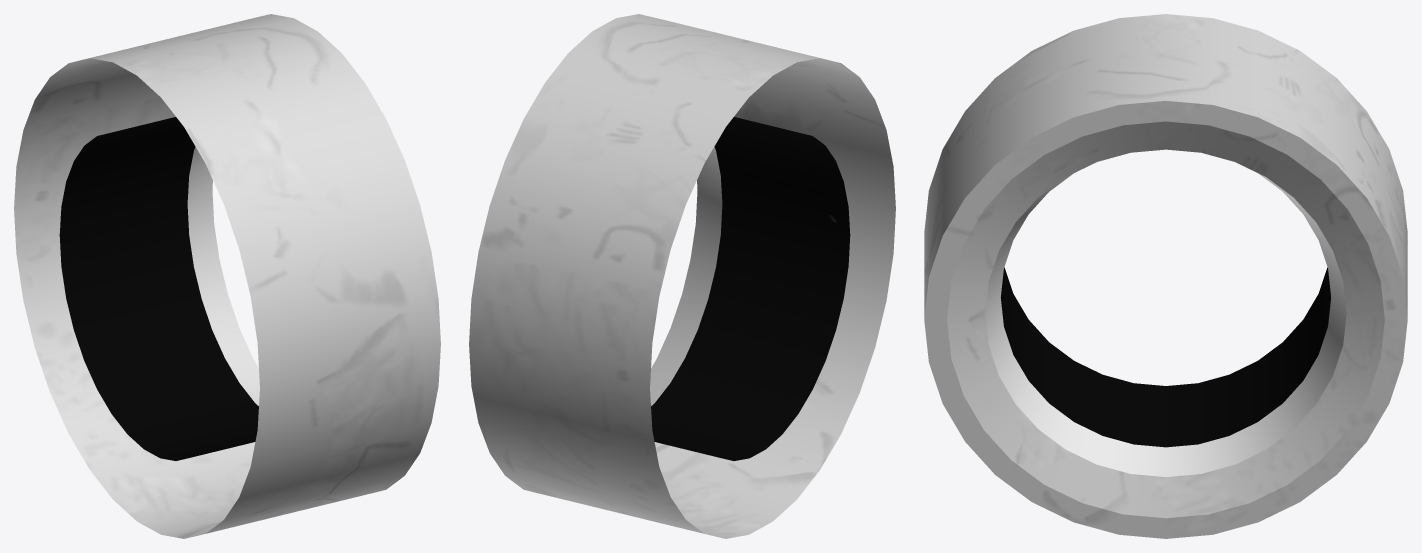
File: Portal.fbx
The picture shows the model from 3 angles, left to right: view 1: azimuth 30°, elevation 25°; view 2: azimuth 150°, elevation 25°; view 3: azimuth 270°, elevation 25°; orthographic projection.
Visible parts, largest first — view 1: Portal; view 2: Portal; view 3: Portal.
Boxes of the visible parts, bbox=[...] form: Portal: bbox=[14, 14, 440, 538]; Portal: bbox=[469, 14, 895, 538]; Portal: bbox=[924, 14, 1407, 538].
Bounding box in the file's own units: 144 × 339 × 339.
